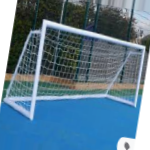goals: (3, 15, 148, 121)
